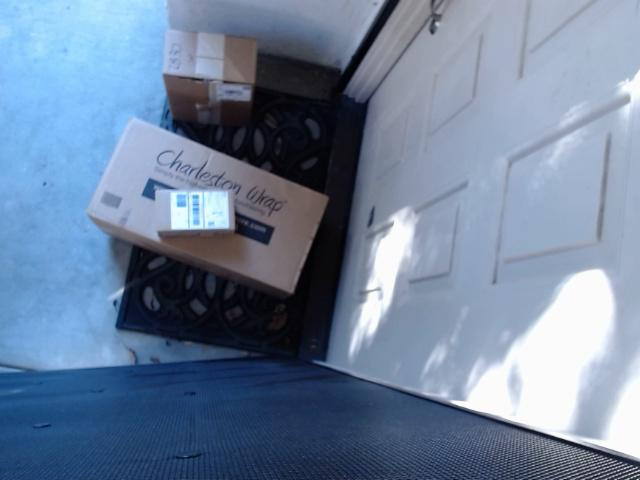box: (86, 118, 328, 300), (161, 29, 257, 124), (154, 188, 235, 240)
